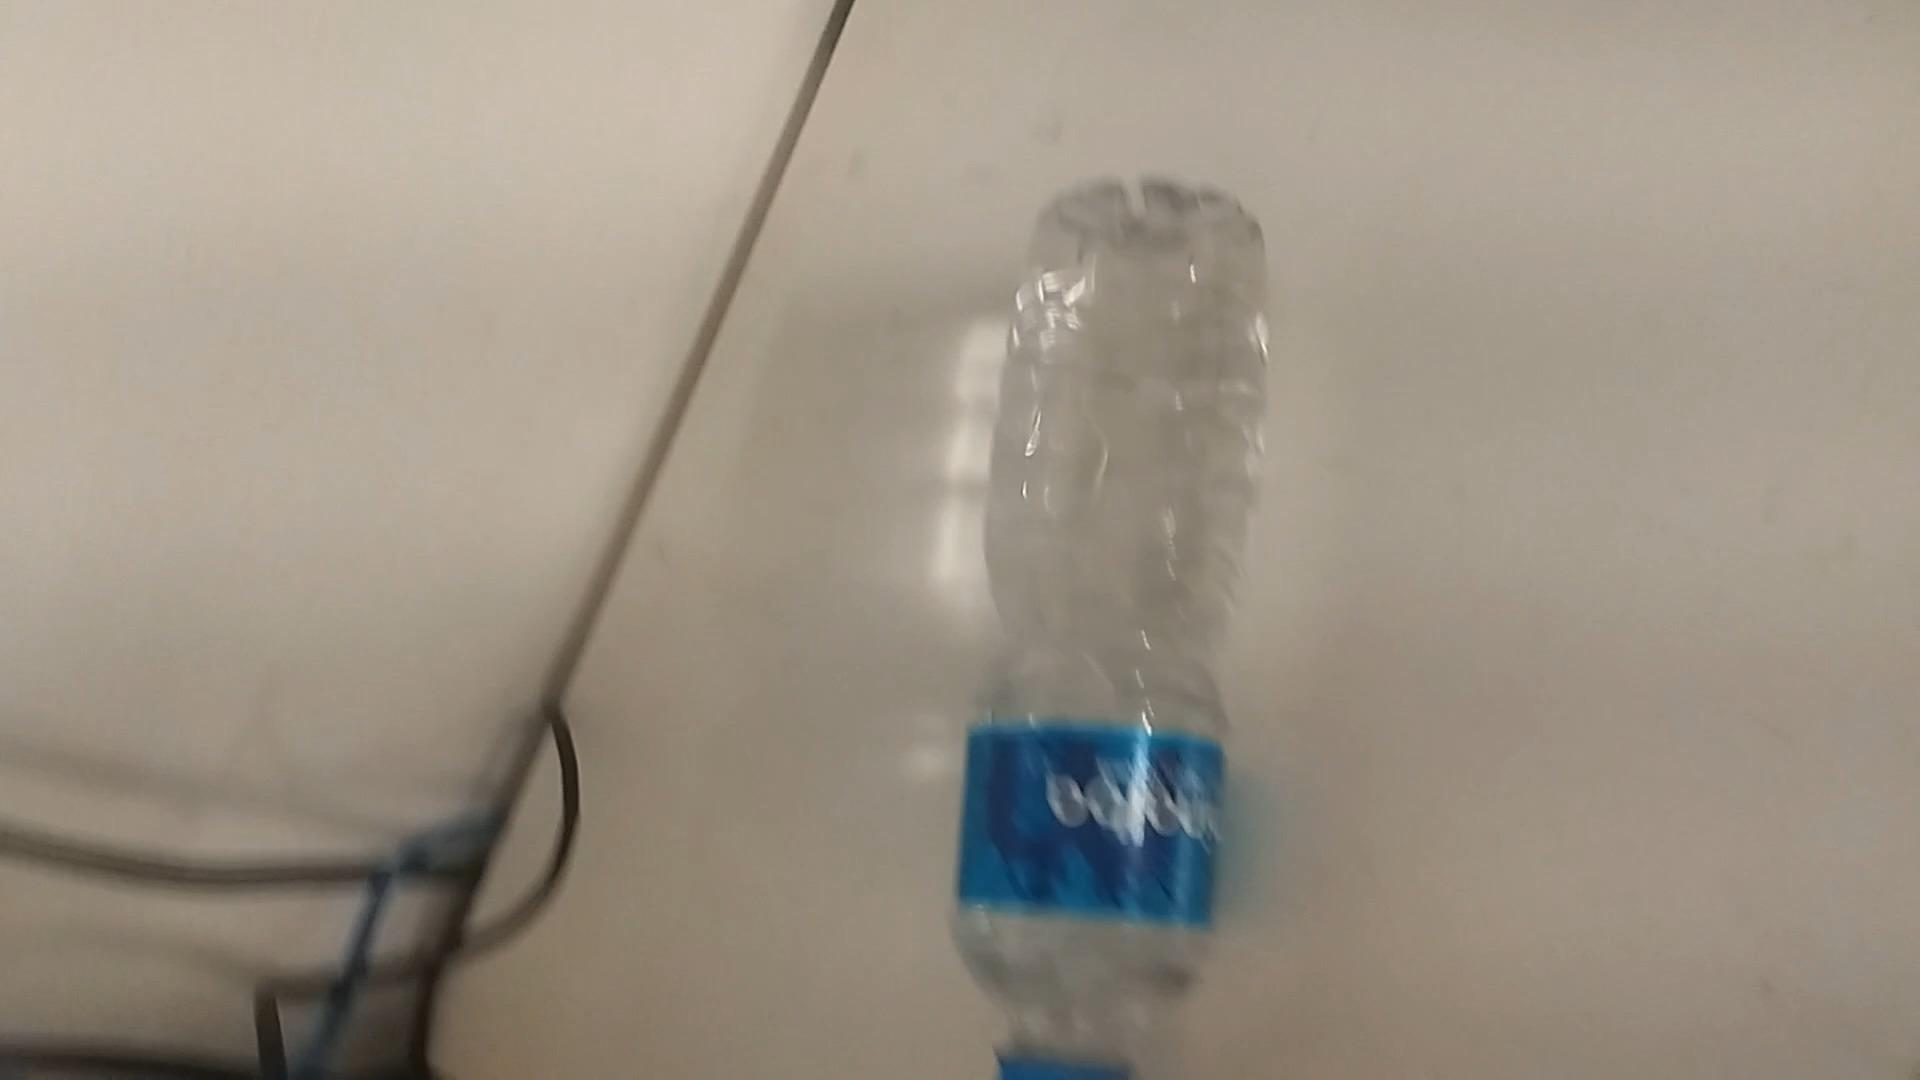agua: (956, 181, 1263, 1079)
